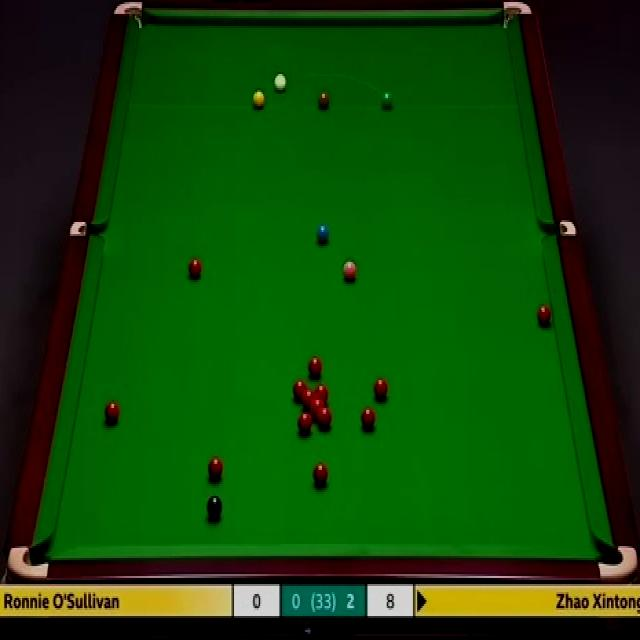black-ball: (207, 494, 224, 518)
blue-ball: (316, 222, 330, 247)
brown-ball: (317, 90, 330, 109)
green-ball: (381, 90, 394, 109)
pink-ball: (342, 262, 358, 284)
red-ball: (312, 462, 330, 488), (102, 398, 119, 423), (306, 356, 325, 378), (292, 376, 308, 402), (536, 304, 552, 329), (360, 406, 376, 431), (316, 408, 333, 431), (314, 384, 330, 408), (208, 456, 224, 480), (372, 378, 389, 400), (297, 410, 312, 434), (301, 390, 317, 410), (188, 260, 202, 278), (310, 399, 324, 416)
white-ball: (273, 72, 287, 93)
yellow-ball: (252, 90, 265, 109)
